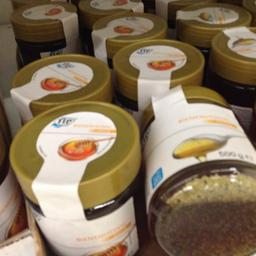honey: (10, 100, 143, 254), (144, 84, 254, 254)
